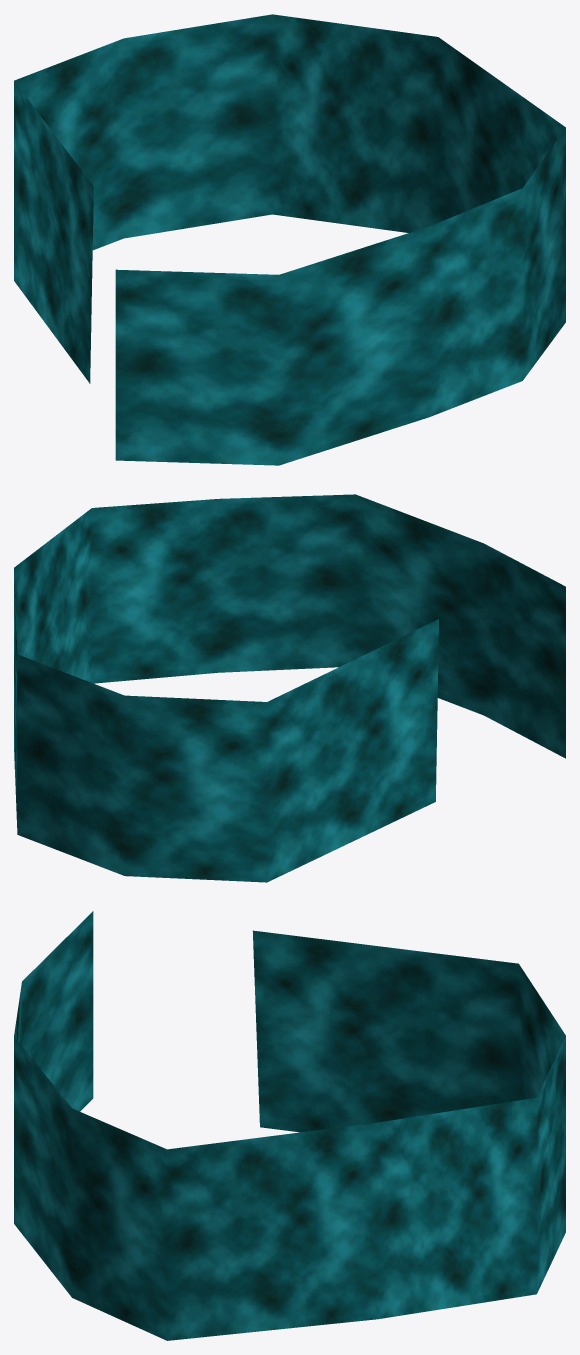
File: MIRKWOOD_FOGI01.fbx
The picture shows the model from 3 angles, top to bottom: view 1: azimuth 30°, elevation 25°; view 2: azimuth 150°, elevation 25°; view 3: azimuth 270°, elevation 25°; orthographic projection. The views are drawn at different scales.
Visible parts, largest first — view 1: MIRKWOOD_FOGI01; view 2: MIRKWOOD_FOGI01; view 3: MIRKWOOD_FOGI01.
Boxes of the visible parts, x1,y1,x2,y2 form: MIRKWOOD_FOGI01: (14, 14, 565, 465); MIRKWOOD_FOGI01: (14, 494, 565, 882); MIRKWOOD_FOGI01: (14, 911, 565, 1340).
Bounding box in the file's own units: 258679 × 110608 × 257796.
1 material, 1 textured.
